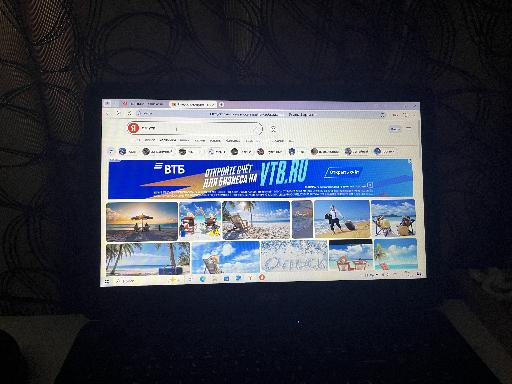yandex: (102, 118, 422, 277)
